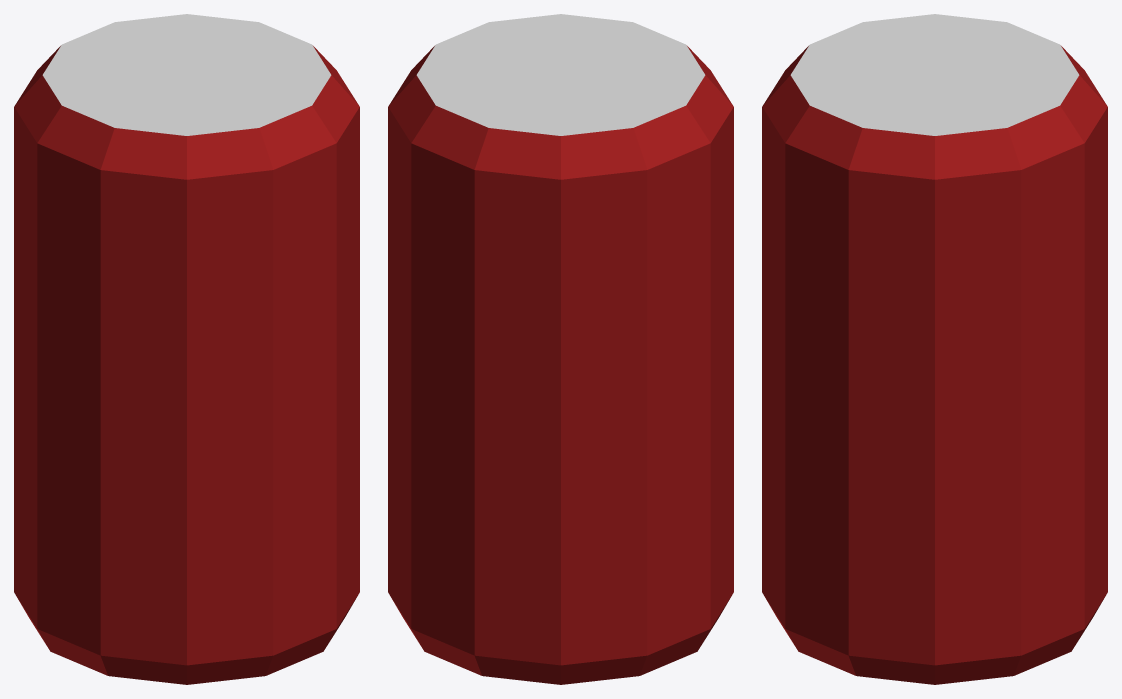
File: can.FBX
The picture shows the model from 3 angles, left to right: view 1: azimuth 30°, elevation 25°; view 2: azimuth 150°, elevation 25°; view 3: azimuth 270°, elevation 25°; orthographic projection.
Visible parts, largest first — view 1: can; view 2: can; view 3: can.
Part boxes in pixels (box(x1,y1,x2,y2)): can: box(14, 14, 359, 684); can: box(388, 14, 733, 684); can: box(762, 14, 1107, 684).
Bounding box in the file's own units: 4.09 × 7.09 × 4.09.
